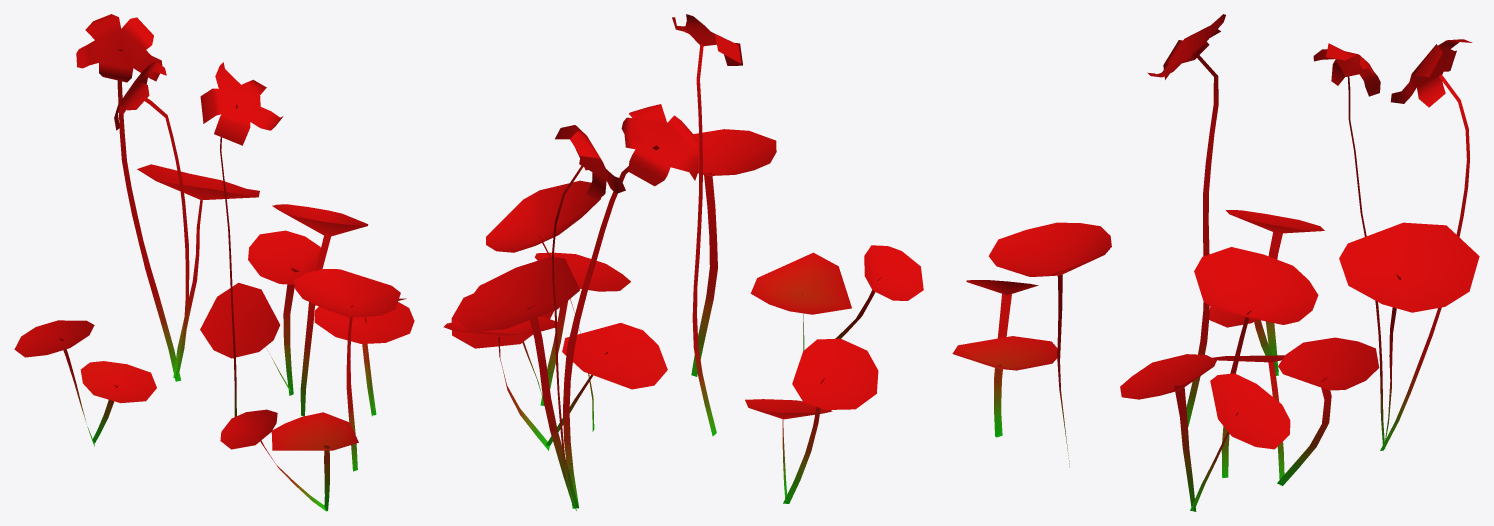
File: Native Violet_LOD3_Var17_ultkcfeja.fbx
The picture shows the model from 3 angles, left to right: view 1: azimuth 30°, elevation 25°; view 2: azimuth 150°, elevation 25°; view 3: azimuth 270°, elevation 25°; orthographic projection. The views are drawn at different scales.
Visible parts, largest first — view 1: _qif4_Var17_LOD3; view 2: _qif4_Var17_LOD3; view 3: _qif4_Var17_LOD3.
Part boxes in pixels (x1,y1,x2,y2): _qif4_Var17_LOD3: [14, 14, 414, 511]; _qif4_Var17_LOD3: [443, 14, 923, 510]; _qif4_Var17_LOD3: [952, 14, 1479, 511].
Size of the model in its own units: 20.25 by 19.9 by 22.46.
